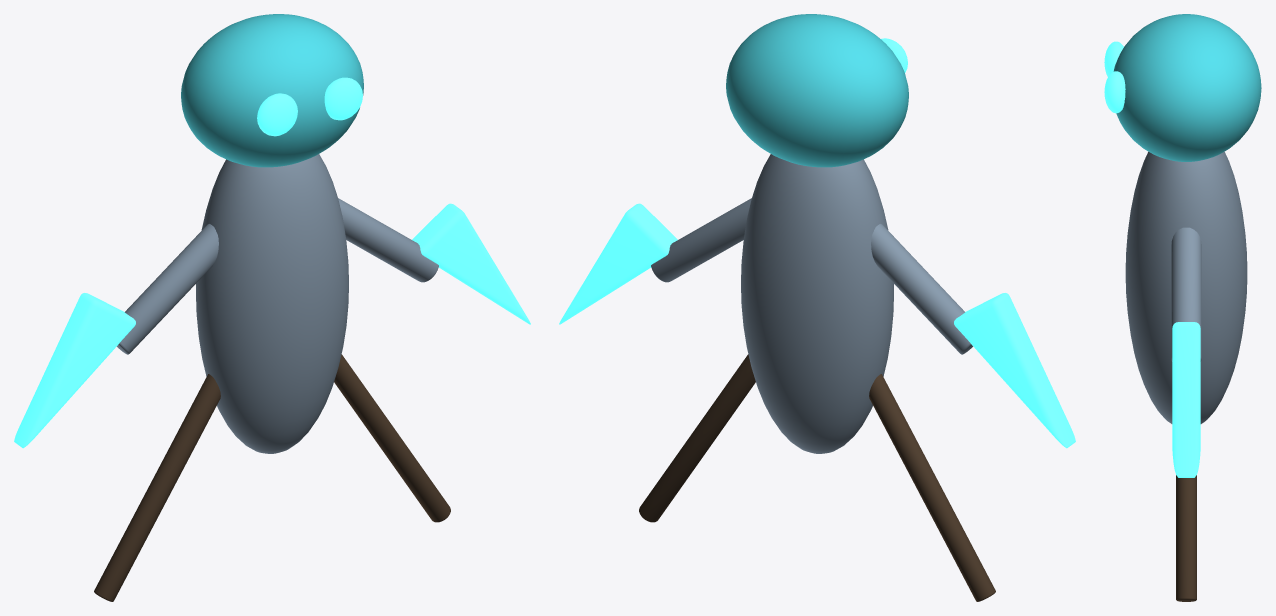
Rendered from insect_v4.glb.
The picture shows the model from 3 angles, left to right: view 1: azimuth 30°, elevation 25°; view 2: azimuth 150°, elevation 25°; view 3: azimuth 270°, elevation 25°; orthographic projection. The views are drawn at different scales.
Parts seen in each view (by area): view 1: MANTIS_THORAX_PRIMARY, MANTIS_HEAD_ACCENT, MANTIS_BLADE_EMISSIVE, MANTIS_LEG_SECONDARY, MANTIS_BLADE_EMISSIVE.001, MANTIS_ARM_PRIMARY, MANTIS_LEG_SECONDARY.001, MANTIS_ARM_PRIMARY.001, EYE_EMISSIVE, EYE_EMISSIVE.001; view 2: MANTIS_THORAX_PRIMARY, MANTIS_HEAD_ACCENT, MANTIS_BLADE_EMISSIVE, MANTIS_LEG_SECONDARY, MANTIS_BLADE_EMISSIVE.001, MANTIS_ARM_PRIMARY, MANTIS_LEG_SECONDARY.001, MANTIS_ARM_PRIMARY.001; view 3: MANTIS_THORAX_PRIMARY, MANTIS_HEAD_ACCENT, MANTIS_BLADE_EMISSIVE.001, MANTIS_ARM_PRIMARY.001, MANTIS_LEG_SECONDARY.001, EYE_EMISSIVE.001, EYE_EMISSIVE.
Part boxes in pixels (x1,y1,x2,y2): MANTIS_THORAX_PRIMARY: (196,154,348,453); MANTIS_HEAD_ACCENT: (181,14,363,167); MANTIS_BLADE_EMISSIVE: (14,293,135,448); MANTIS_LEG_SECONDARY: (94,374,220,601); MANTIS_BLADE_EMISSIVE.001: (412,203,530,324); MANTIS_ARM_PRIMARY: (117,224,218,354); MANTIS_LEG_SECONDARY.001: (334,354,450,522); MANTIS_ARM_PRIMARY.001: (338,198,438,282); EYE_EMISSIVE: (257,93,297,136); EYE_EMISSIVE.001: (324,77,362,120); MANTIS_THORAX_PRIMARY: (741,154,893,453); MANTIS_HEAD_ACCENT: (726,14,908,167); MANTIS_BLADE_EMISSIVE: (954,293,1075,448); MANTIS_LEG_SECONDARY: (869,374,995,601); MANTIS_BLADE_EMISSIVE.001: (559,203,677,324); MANTIS_ARM_PRIMARY: (871,224,972,354); MANTIS_LEG_SECONDARY.001: (639,354,755,522); MANTIS_ARM_PRIMARY.001: (651,198,751,282); MANTIS_THORAX_PRIMARY: (1125,151,1247,423); MANTIS_HEAD_ACCENT: (1113,14,1261,161); MANTIS_BLADE_EMISSIVE.001: (1172,322,1200,477); MANTIS_ARM_PRIMARY.001: (1171,227,1201,361); MANTIS_LEG_SECONDARY.001: (1176,475,1196,601); EYE_EMISSIVE.001: (1104,71,1125,113); EYE_EMISSIVE: (1104,41,1123,76).
Bounding box in the file's own units: 2.34 × 2.37 × 0.67.
